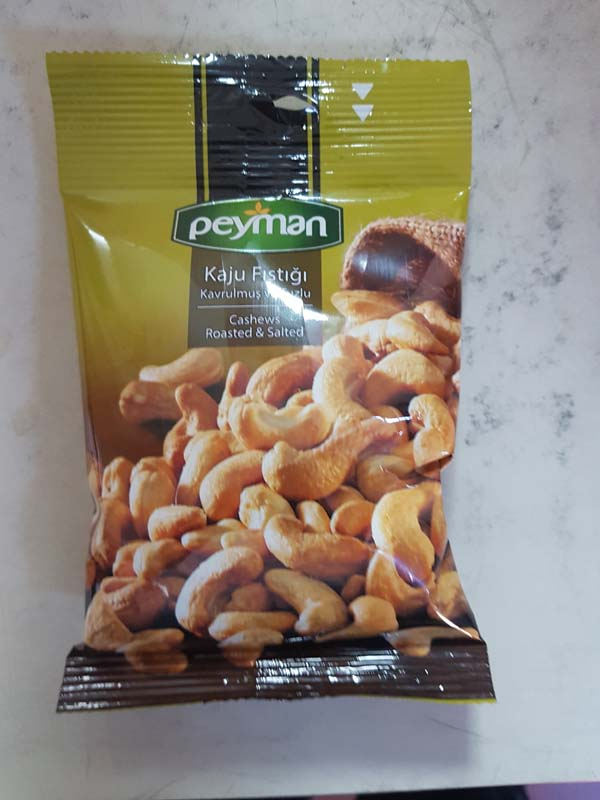kajupeyman: (42, 39, 504, 709)
